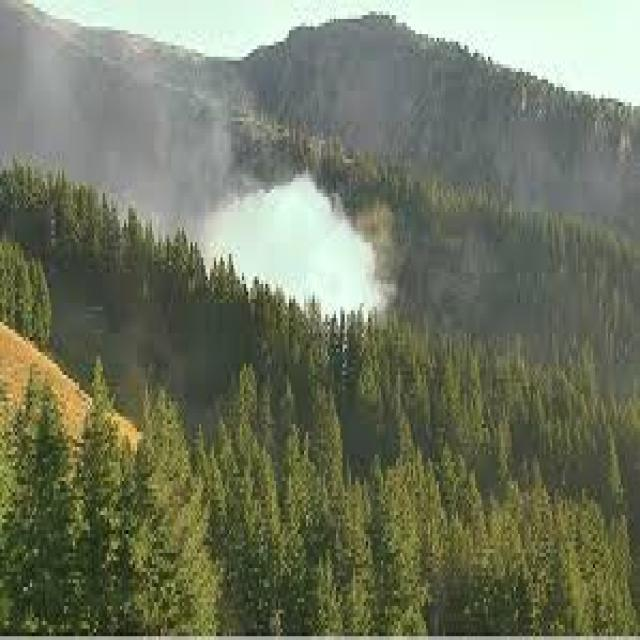Smoke: (182, 152, 405, 332)
